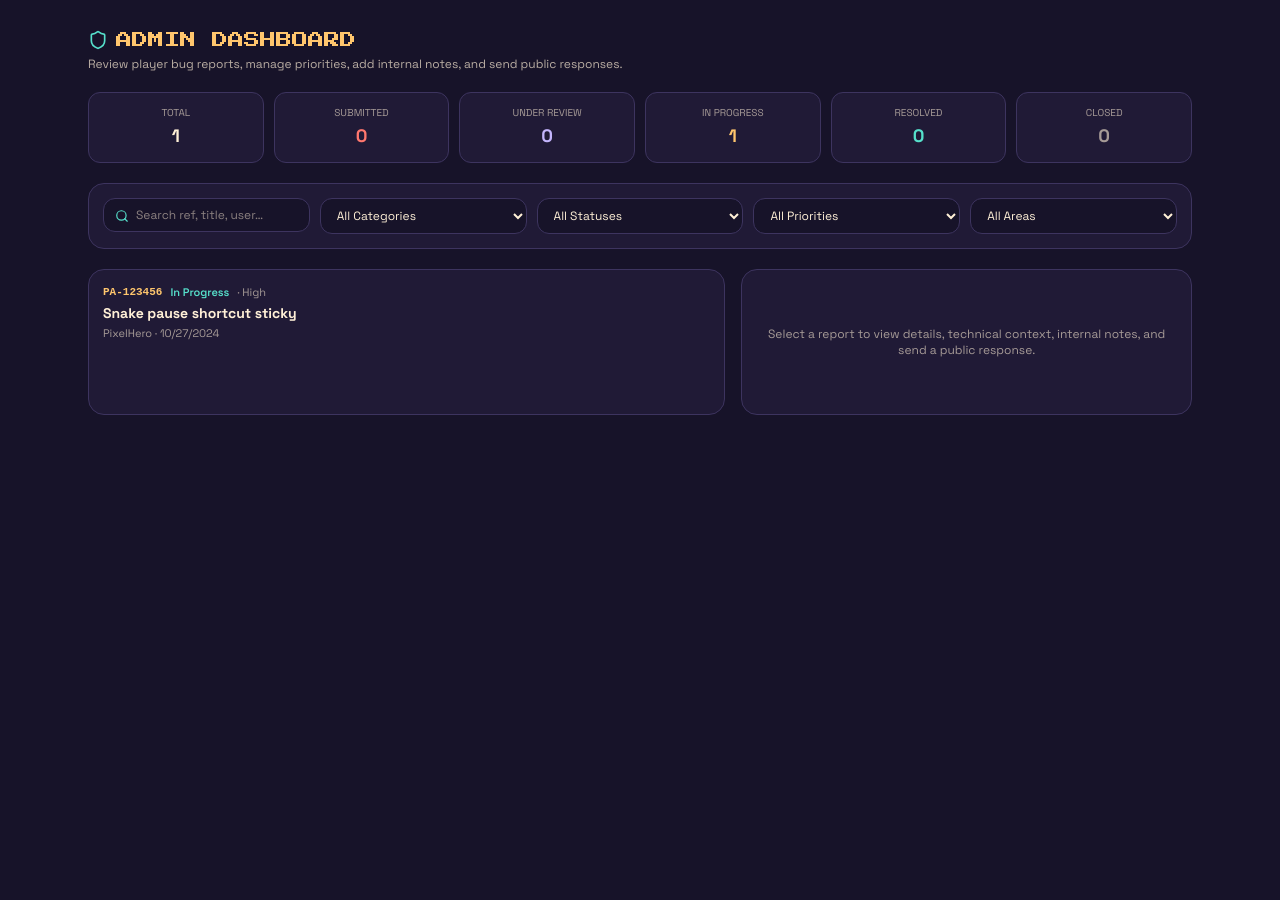
Test: Feedback System, Security Rules & Pixel-Art Snake Visuals › AdminDashboardView access control & management › allows verified admins to filter reports and toggle Public Response vs Internal Note
Expected: the element with test id "admin-dashboard-view" is shown, [64, 0, 1216, 443]
Expected: the text "PA-123456" is shown, [103, 284, 162, 300]
Note: Search filter
Type "nonexistent-query" into the field with test id "admin-search-input".
click(206, 215); type("nonexistent-query")  # box [103, 198, 310, 232]
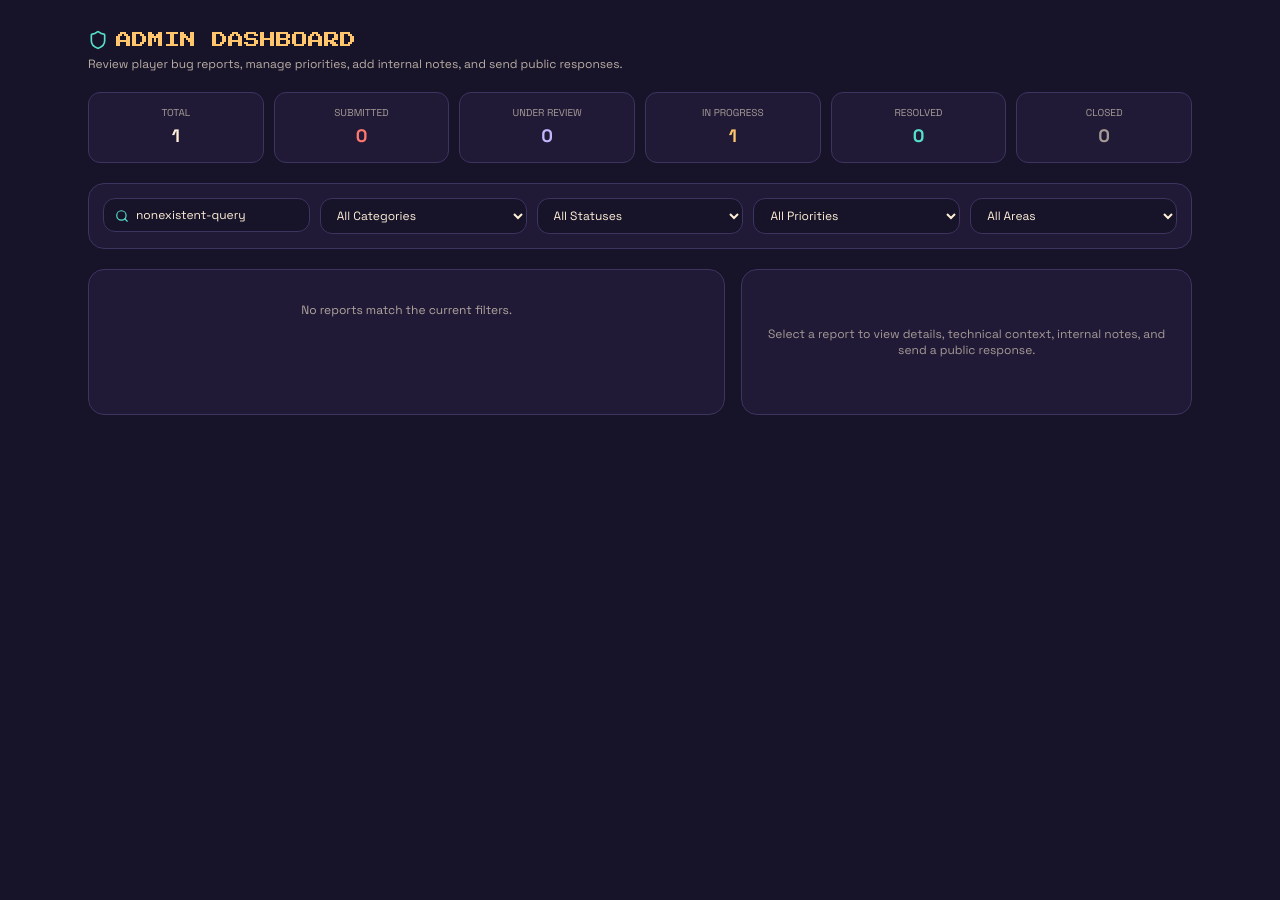
Expected: the text "No reports match the current filters." is shown, [301, 302, 512, 318]
Replace the text in the field with test id "admin-search-input" with "PA-123456" at point(206, 215), box [103, 198, 310, 232]
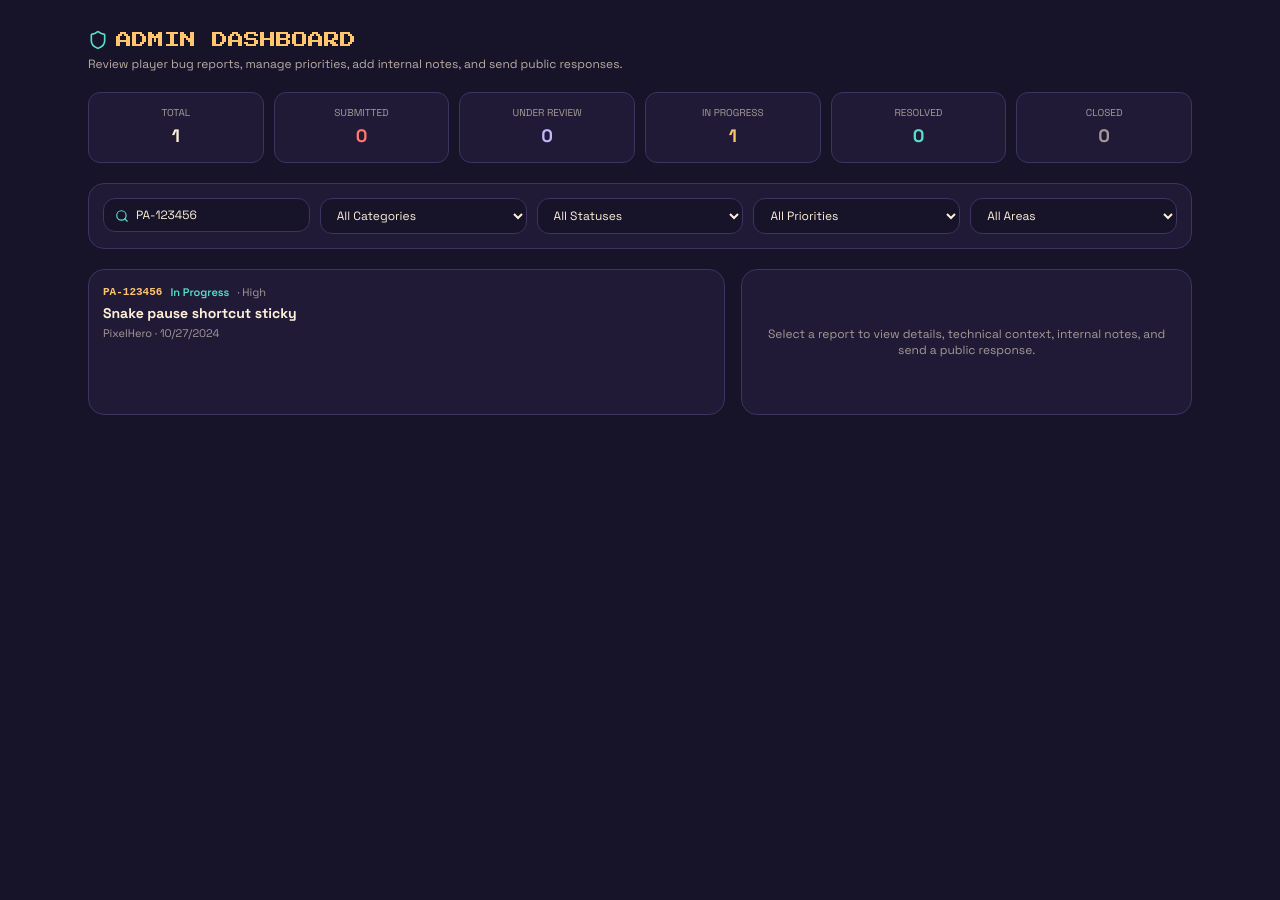
Click the button with test id "admin-report-row-PA-123456".
click(133, 292)  # box [89, 270, 724, 355]
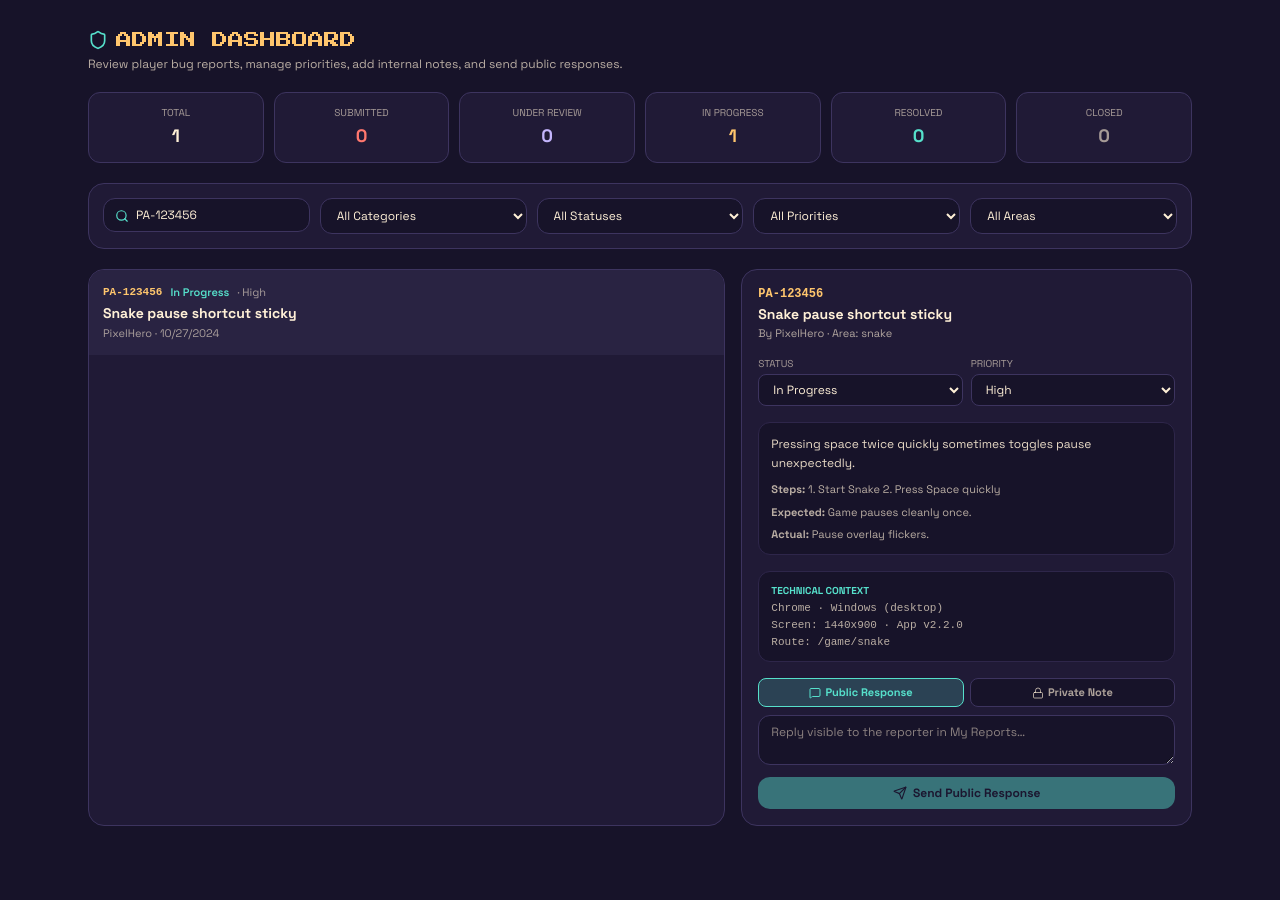
Expected: the dropdown with test id "admin-status-select" is shown, [758, 374, 963, 406]
Expected: the dropdown with test id "admin-priority-select" is shown, [971, 374, 1175, 406]
Expected: the button with test id "admin-mode-public" is shown, [758, 678, 964, 707]
